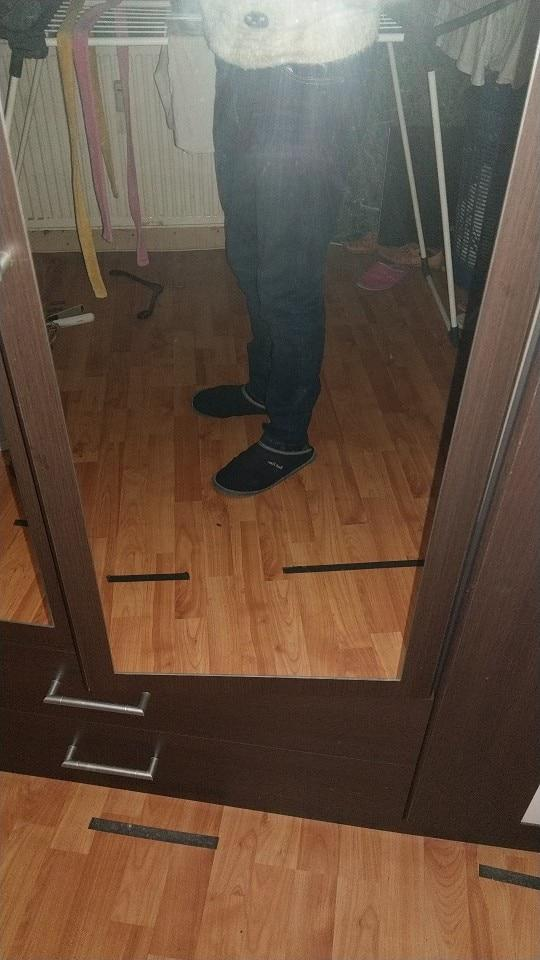jeans: (199, 55, 376, 439)
